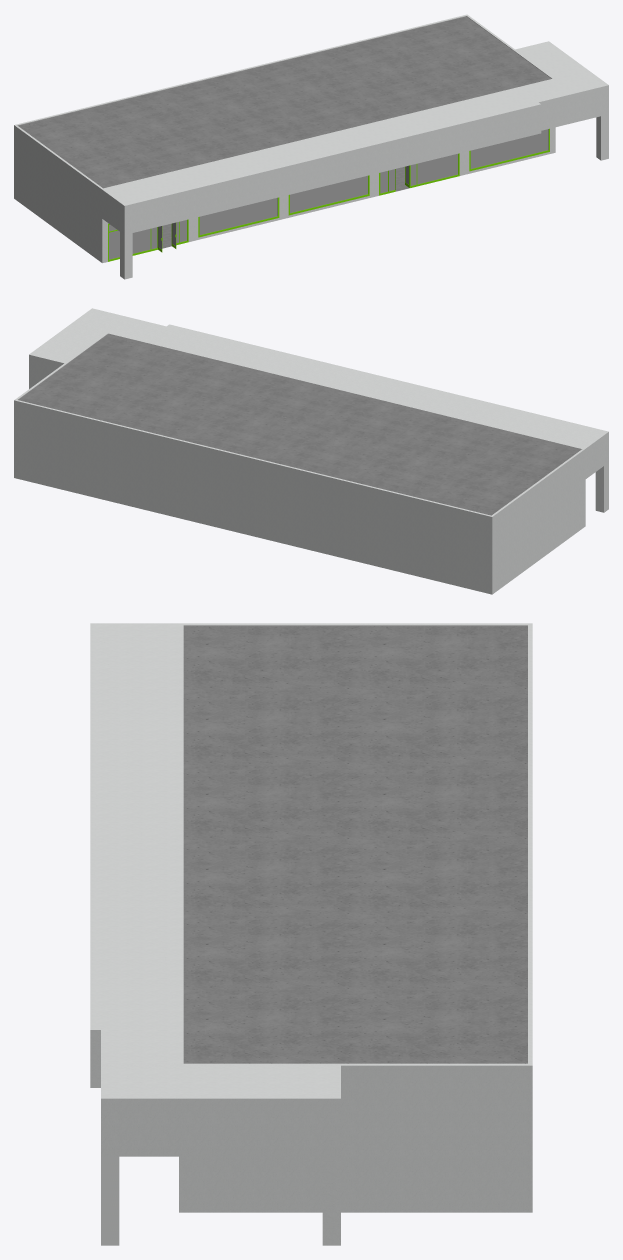
File: Shell.fbx
3 renders of one model, top to bottom at view 1: azimuth 30°, elevation 25°; view 2: azimuth 150°, elevation 25°; view 3: azimuth 270°, elevation 25°, orthographic. The views are drawn at different scales.
Visible parts, largest first — view 1: polySurface2820, polySurface2817, polySurface2813, polySurface2818, polySurface2816, polySurface2815, pCube34; view 2: polySurface2817, polySurface2820, polySurface2816; view 3: polySurface2820, polySurface2817, polySurface2815.
Boxes of the visible parts, <box> form: polySurface2820: <box>18,16,551,188</box>; polySurface2817: <box>14,14,608,263</box>; polySurface2813: <box>108,128,549,261</box>; polySurface2818: <box>17,16,551,125</box>; polySurface2816: <box>120,232,132,279</box>; polySurface2815: <box>596,114,608,160</box>; pCube34: <box>162,166,409,248</box>; polySurface2817: <box>14,308,608,594</box>; polySurface2820: <box>18,333,581,515</box>; polySurface2816: <box>595,462,608,512</box>; polySurface2820: <box>183,626,527,1063</box>; polySurface2817: <box>90,623,532,1245</box>; polySurface2815: <box>101,1156,119,1245</box>.
Bounding box in the file's own units: 5077 × 733 × 1996.
